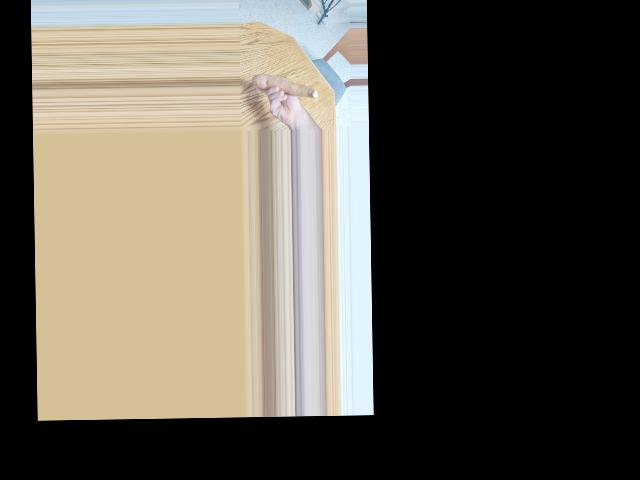sweet_potato: (254, 69, 319, 101)
